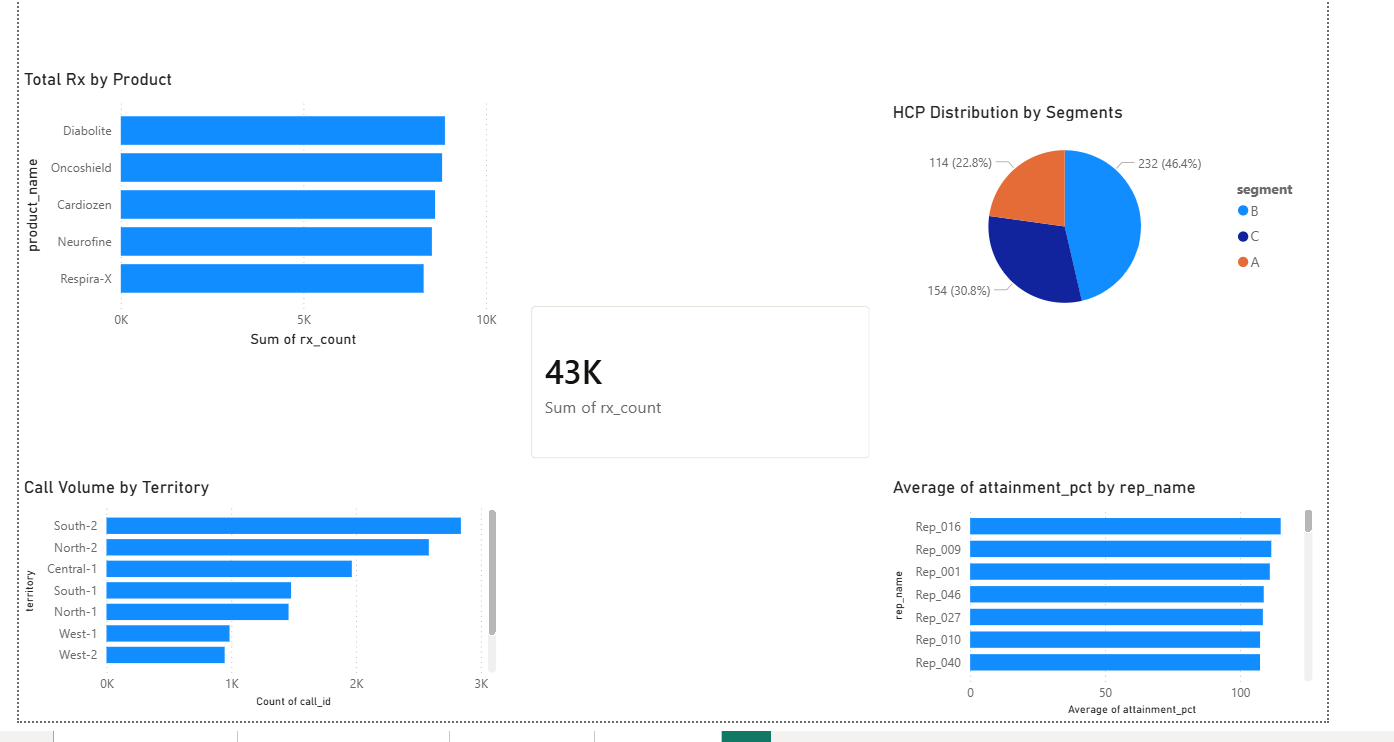

The dashboard page shown, as its layout file describes it:
{"tool":"powerbi","page":{"name":"Executive Summary","canvas":[1280,720],"ordinal":0},"visuals":[{"type":"clusteredBarChart","fields":{"Y":["Sum(prescriptions.rx_count)"],"Category":["products.product_name"]},"box":[0,81.9,472,277.6],"z":0},{"type":"clusteredBarChart","fields":{"Category":["sales_reps.territory"],"Y":["CountNonNull(call_activity.call_id)"]},"box":[0,480.6,472,231.1],"z":1000},{"type":"pieChart","fields":{"Category":["hcps.segment"],"Y":["CountNonNull(hcps.hcp_id)"]},"box":[849.9,113.7,420.7,226.2],"z":2000},{"type":"cardVisual","fields":{"Data":["Sum(prescriptions.rx_count)"]},"box":[484.2,297.1,365.6,183.4],"z":3000},{"type":"clusteredBarChart","fields":{"Category":["sales_reps.rep_name"],"Y":["Avg(ic_quotas.attainment_pct)"]},"box":[849.9,480.6,420.7,239.7],"z":4000}]}

Visuals, with their boxes on the page's 1280x720 design canvas (x1, y1, x2, y2). These are canvas units, not pixel positions in the 1394x742 screenshot, which may show the page scaled, cropped or inside an application window:
clusteredBarChart - Sum(prescriptions.rx_count) x products.product_name: box=[0, 82, 472, 360]
clusteredBarChart - sales_reps.territory x CountNonNull(call_activity.call_id): box=[0, 481, 472, 712]
pieChart - hcps.segment x CountNonNull(hcps.hcp_id): box=[850, 114, 1271, 340]
cardVisual - Sum(prescriptions.rx_count): box=[484, 297, 850, 480]
clusteredBarChart - sales_reps.rep_name x Avg(ic_quotas.attainment_pct): box=[850, 481, 1271, 720]
